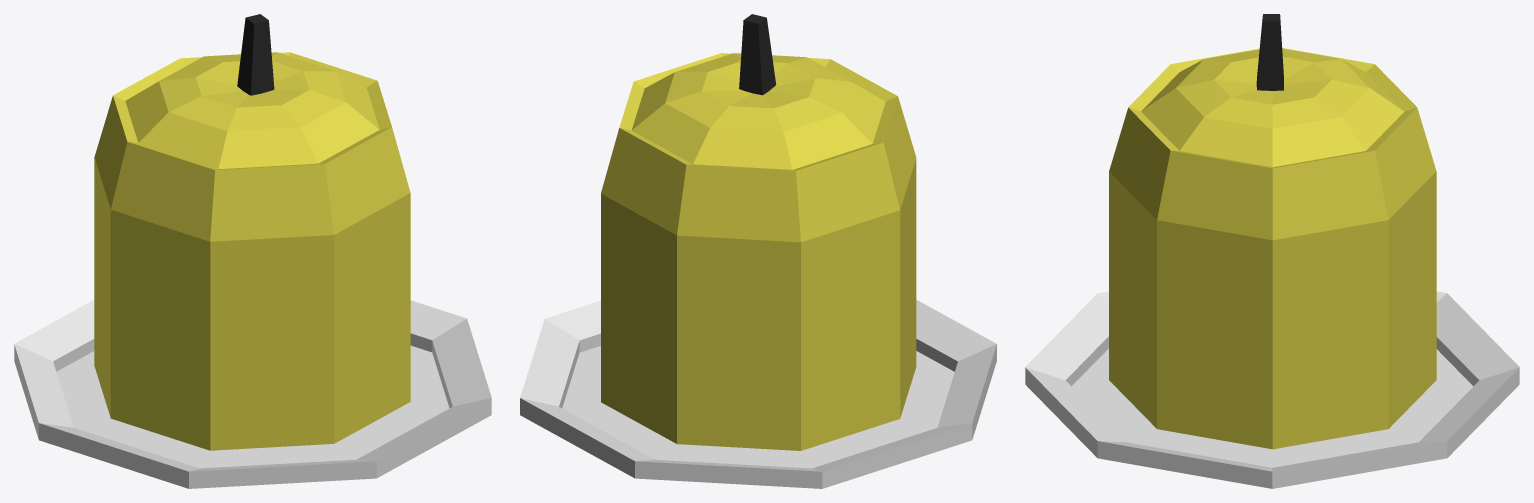
File: Bougie.fbx
The picture shows the model from 3 angles, left to right: view 1: azimuth 30°, elevation 25°; view 2: azimuth 150°, elevation 25°; view 3: azimuth 270°, elevation 25°; orthographic projection.
Parts seen in each view (by area): view 1: Bougie, Coupelle; view 2: Bougie, Coupelle; view 3: Bougie, Coupelle.
Boxes of the visible parts, x1,y1,x2,y2 form: Bougie: [94, 14, 410, 450]; Coupelle: [14, 300, 491, 488]; Bougie: [601, 14, 916, 450]; Coupelle: [520, 299, 996, 488]; Bougie: [1109, 14, 1436, 449]; Coupelle: [1025, 291, 1519, 488].
Bounding box in the file's own units: 8.61 × 7.67 × 8.61.
